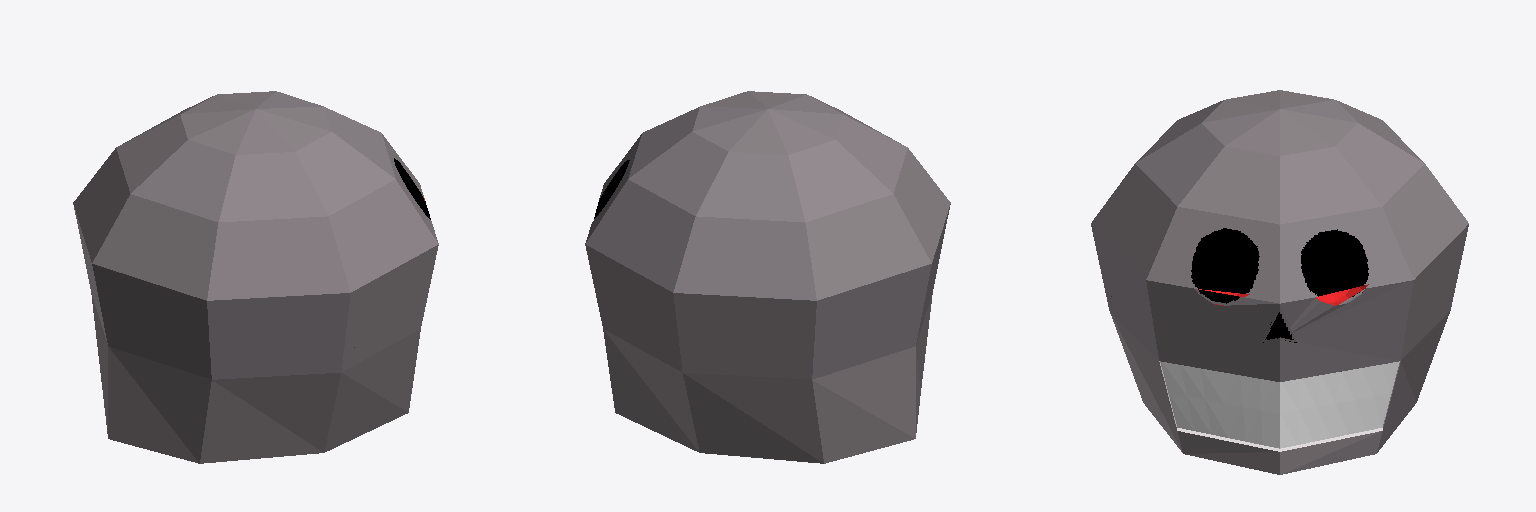
The picture shows the model from 3 angles: view 1: azimuth 30°, elevation 25°; view 2: azimuth 150°, elevation 25°; view 3: azimuth 270°, elevation 25°; orthographic projection.
Visible parts, largest first — view 1: Sphere; view 2: Sphere; view 3: Sphere.
Boxes of the visible parts, <box> form: Sphere: <box>73,91,438,463</box>; Sphere: <box>585,91,950,463</box>; Sphere: <box>1091,90,1468,474</box>.
Bounding box in the file's own units: 5.54 × 4.75 × 5.54.
Materials: 1 (1 with a texture image).